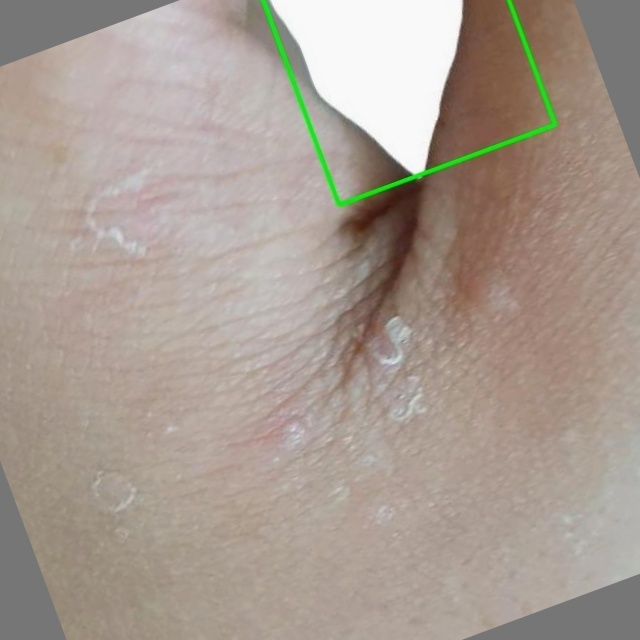Scabies: (263, 0, 555, 205)
